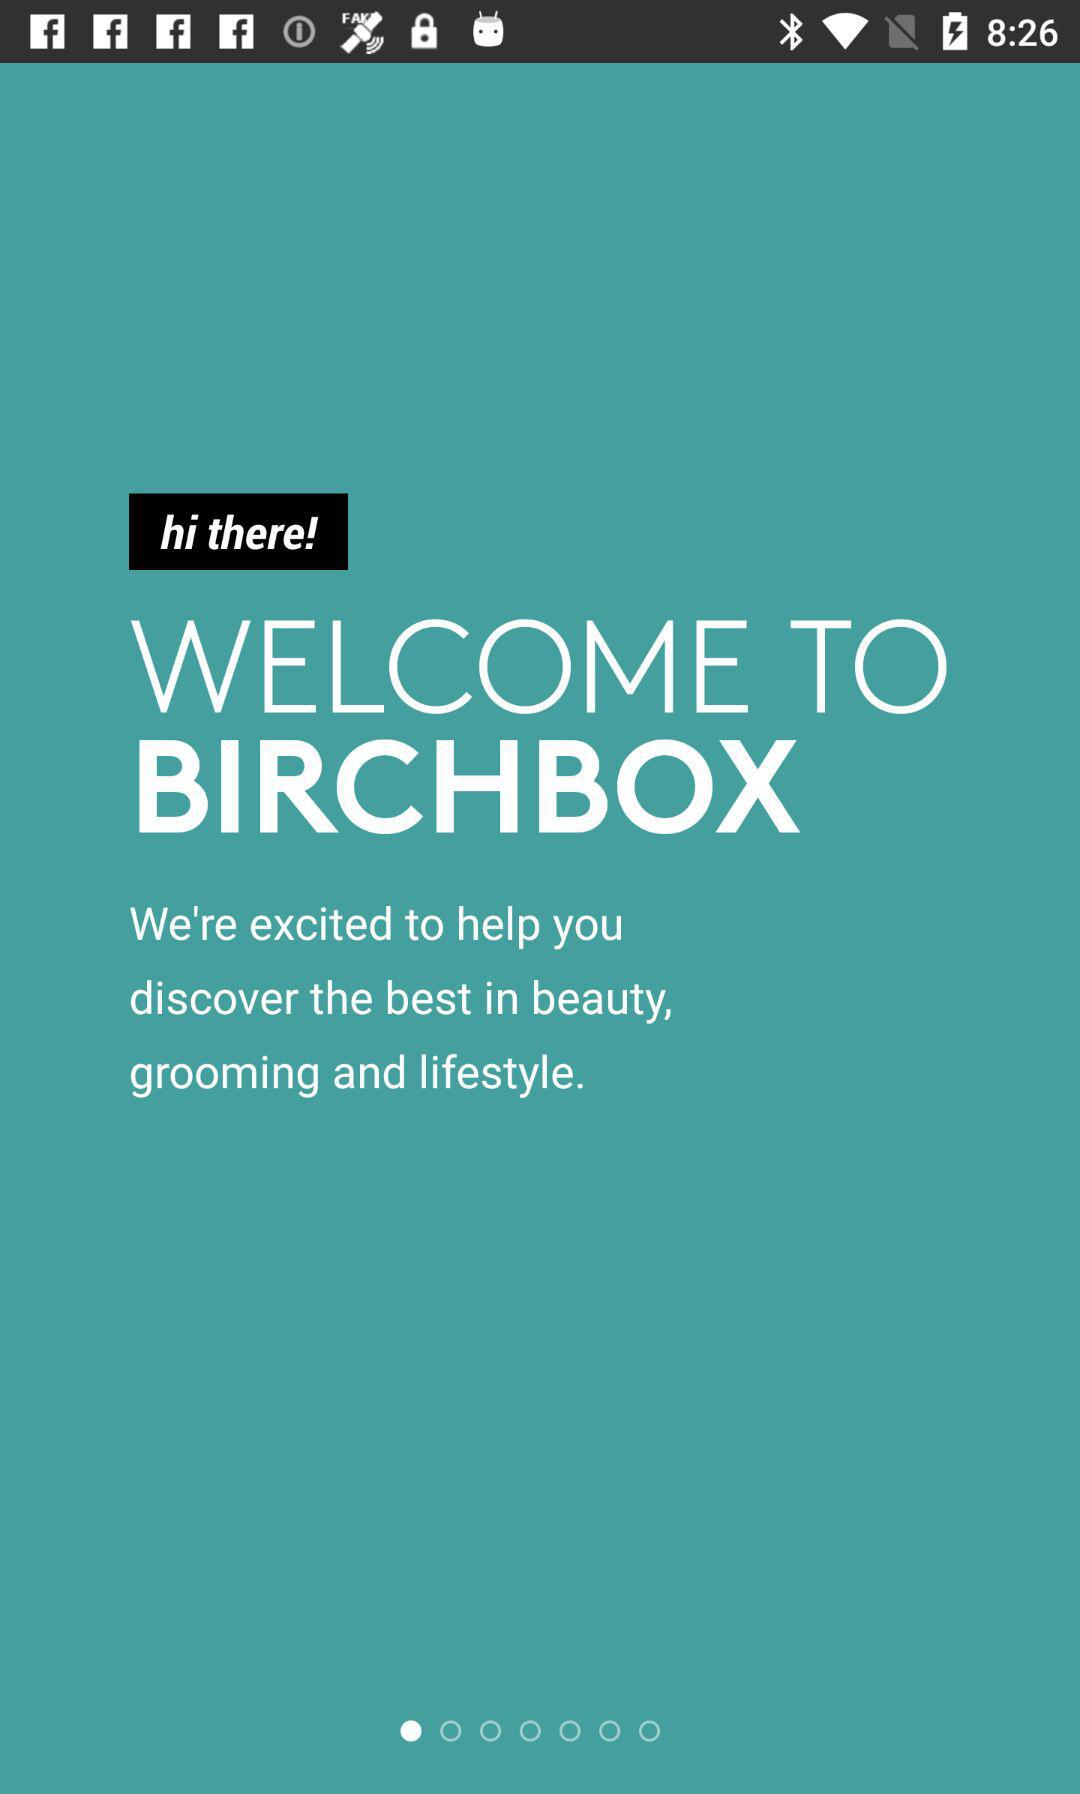PageIndicator: (398, 1718, 662, 1744)
Text: (131, 618, 948, 835), (129, 903, 673, 1099)
UpperTaskBar: (1, 1, 1080, 64)
